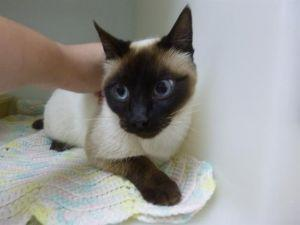siamese: (84, 3, 212, 141)
